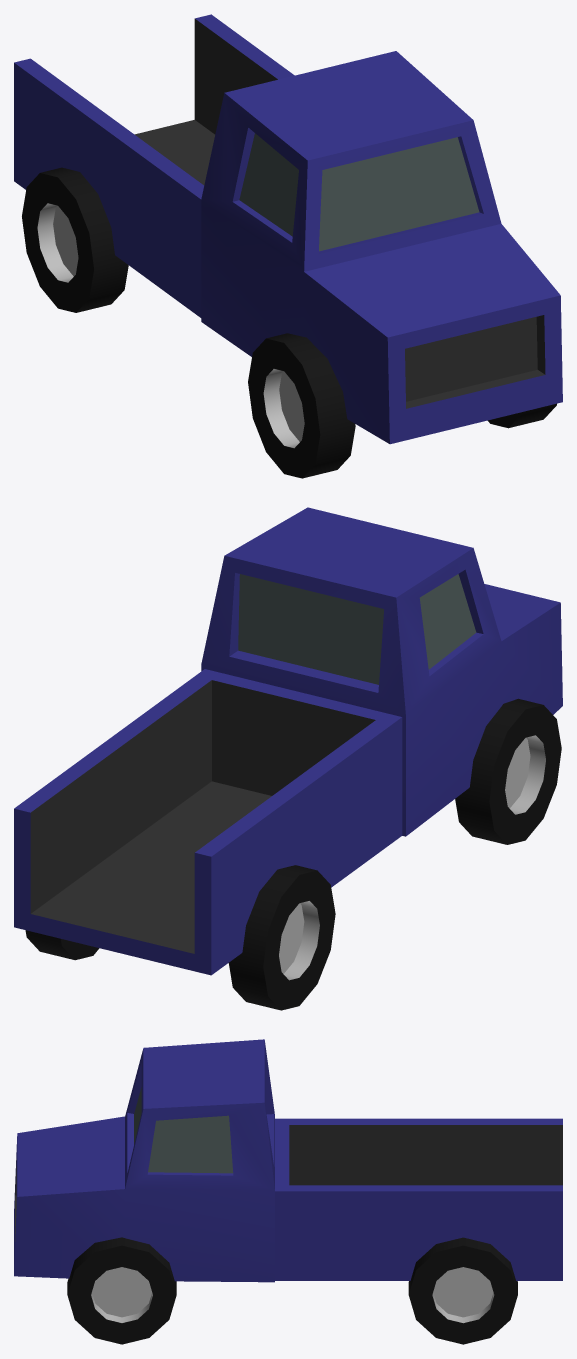
File: PickUp.fbx
The picture shows the model from 3 angles, top to bottom: view 1: azimuth 30°, elevation 25°; view 2: azimuth 150°, elevation 25°; view 3: azimuth 270°, elevation 25°; orthographic projection. The views are drawn at different scales.
Visible parts, largest first — view 1: Truck, TruckBed, FrontWheels, BackWheels; view 2: TruckBed, Truck, BackWheels, FrontWheels; view 3: Truck, TruckBed, FrontWheels, BackWheels.
Boxes of the visible parts, left/top/right/bottom form: Truck: left=201, top=51, right=562, bottom=444; TruckBed: left=14, top=14, right=294, bottom=317; FrontWheels: left=248, top=333, right=556, bottom=478; BackWheels: left=22, top=167, right=128, bottom=312; TruckBed: left=14, top=669, right=402, bottom=975; Truck: left=201, top=507, right=562, bottom=836; BackWheels: left=25, top=865, right=335, bottom=1010; FrontWheels: left=455, top=698, right=561, bottom=844; Truck: left=14, top=1039, right=274, bottom=1282; TruckBed: left=275, top=1118, right=562, bottom=1280; FrontWheels: left=67, top=1237, right=176, bottom=1344; BackWheels: left=408, top=1237, right=517, bottom=1344.
Bounding box in the file's own units: 475 × 570 × 1239.
